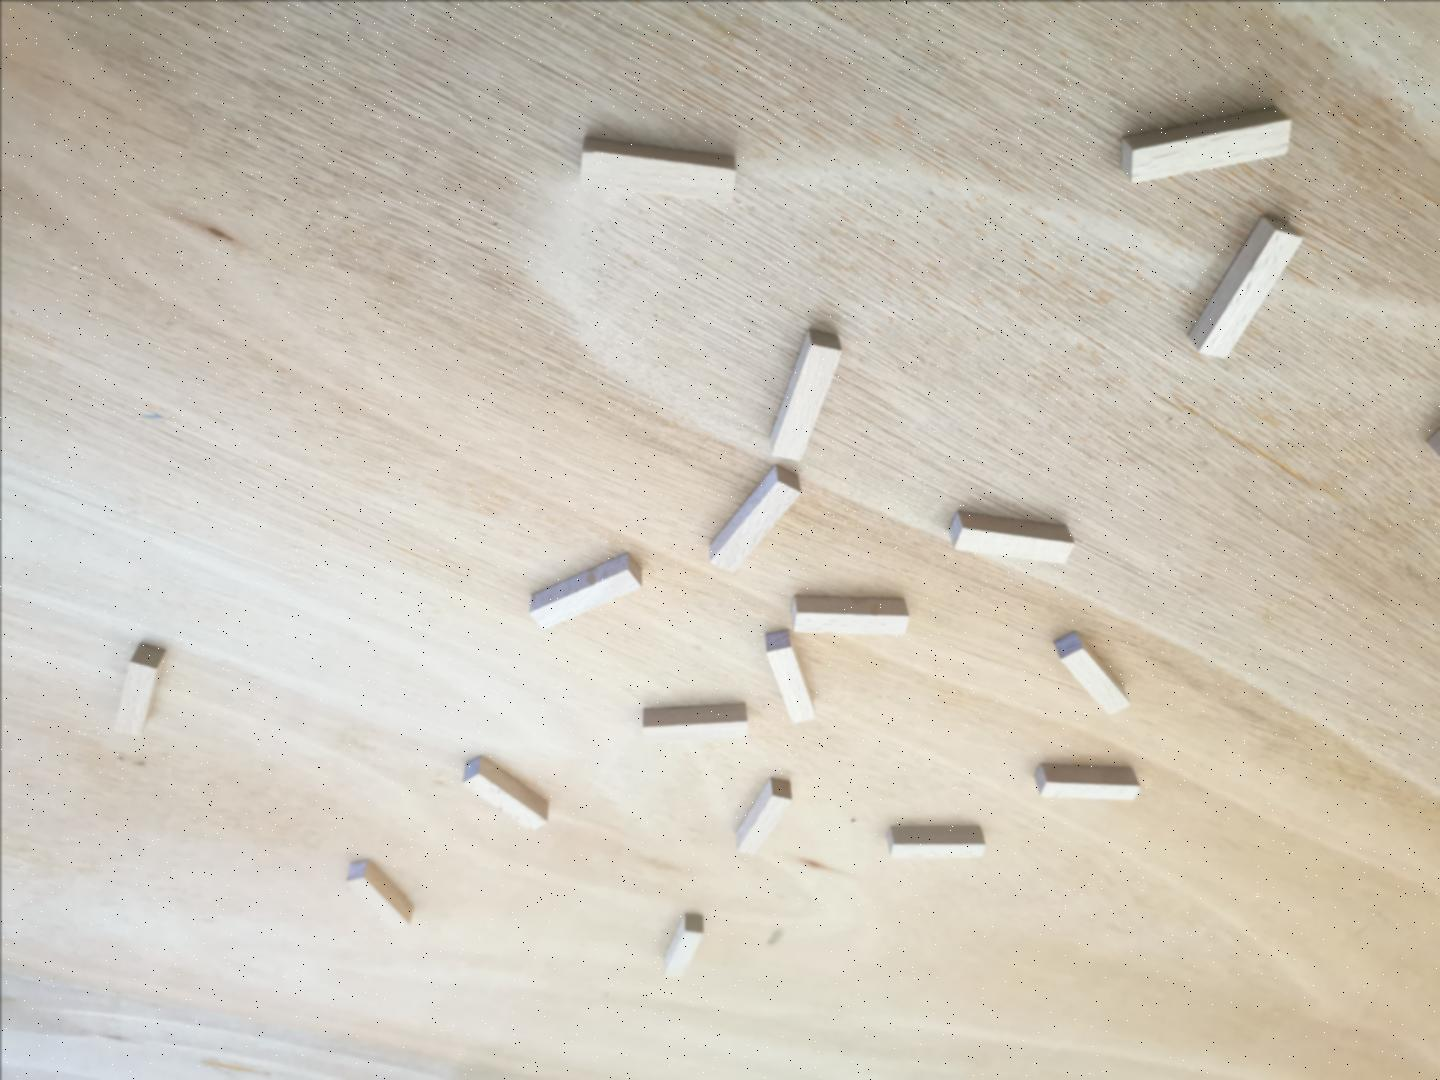jenga: (1187, 217, 1299, 357), (1119, 107, 1291, 183), (579, 137, 734, 200), (709, 464, 798, 571), (771, 329, 841, 458), (528, 554, 642, 627), (948, 512, 1075, 563), (461, 757, 549, 827), (1054, 633, 1128, 715), (112, 644, 166, 734), (790, 593, 908, 633), (765, 630, 815, 723), (346, 861, 414, 926), (734, 776, 790, 852), (1032, 762, 1140, 799), (642, 703, 745, 740), (886, 824, 984, 858), (663, 911, 703, 976)
